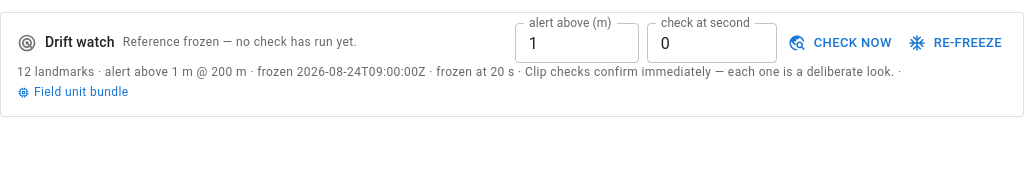
Scenario: the drift section › refuses to check a clip at the very second it was frozen from
expect the button "Check now" is enabled: met, box [785,28,897,58]
Replace the text in the number field labelled "at second" with "20" at [712, 43], box [647,23,777,63]
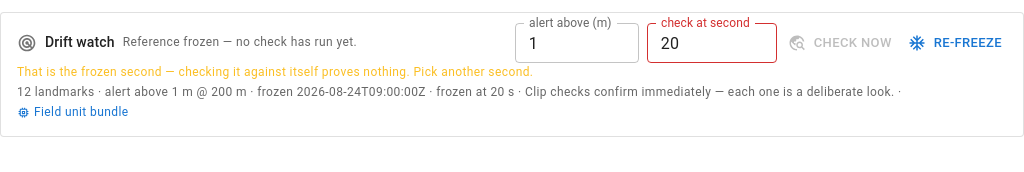
expect the button "Check now" is disabled: met, box [785,28,897,58]
expect the text "That is the frozen second" is shown: met, box [17,65,533,79]
Replace the text in the number field labelled "at second" with "30" at [712, 43], box [647,23,777,63]
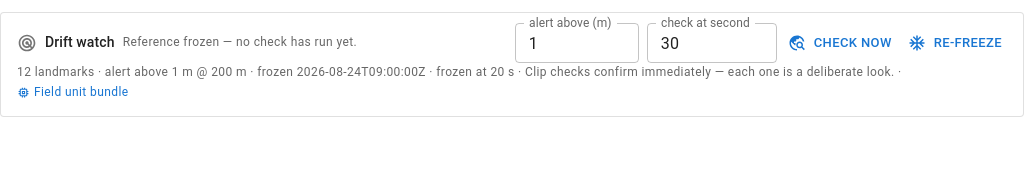
expect the button "Check now" is enabled: met, box [785,28,897,58]
